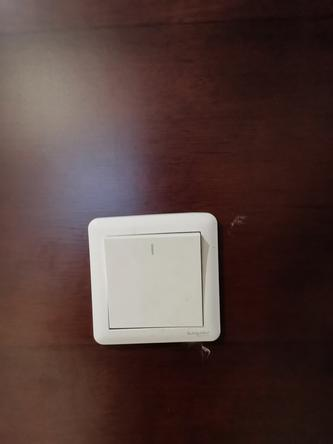switch: (101, 226, 211, 331)
